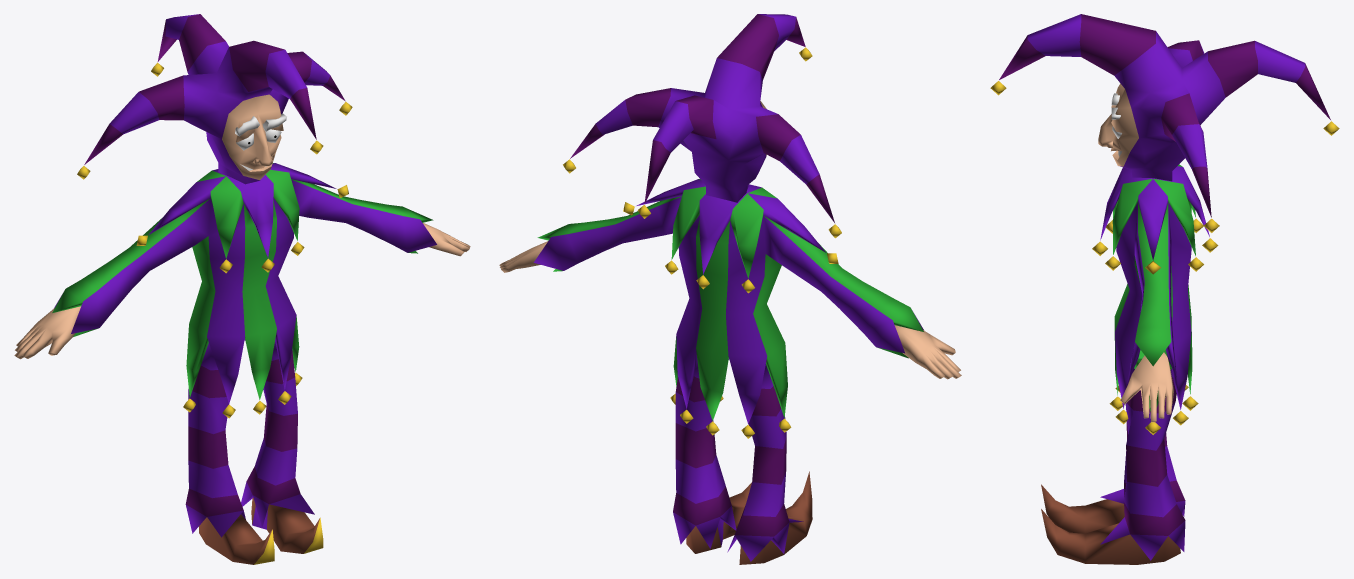
File: Jester.FBX
3 views of the same model, side by side, from view 1: azimuth 30°, elevation 25°; view 2: azimuth 150°, elevation 25°; view 3: azimuth 270°, elevation 25° (orthographic). The views are drawn at different scales.
Visible parts, largest first — view 1: Box001, Box002; view 2: Box001, Box002; view 3: Box001, Box002.
Boxes of the visible parts, left/top/right/bottom form: Box001: left=14, top=163, right=470, bottom=564; Box002: left=77, top=14, right=352, bottom=184; Box001: left=499, top=179, right=961, bottom=564; Box002: left=563, top=14, right=841, bottom=238; Box001: left=1041, top=164, right=1218, bottom=564; Box002: left=990, top=14, right=1339, bottom=232.
Bounding box in the file's own units: 372 × 237 × 393.
